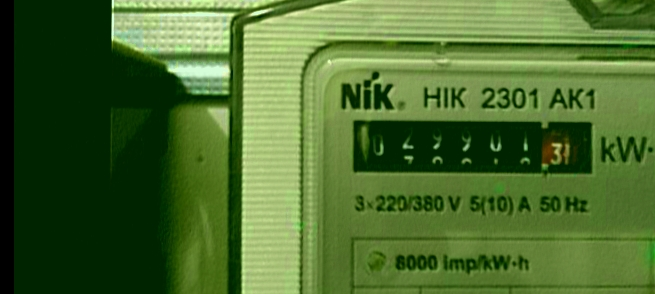0: (368, 131, 387, 158), (487, 126, 504, 155)
1: (518, 125, 532, 154)
2: (398, 125, 417, 152)
3: (547, 141, 565, 167)
9: (428, 125, 445, 153), (459, 127, 473, 154)
screen: (343, 110, 604, 185)
